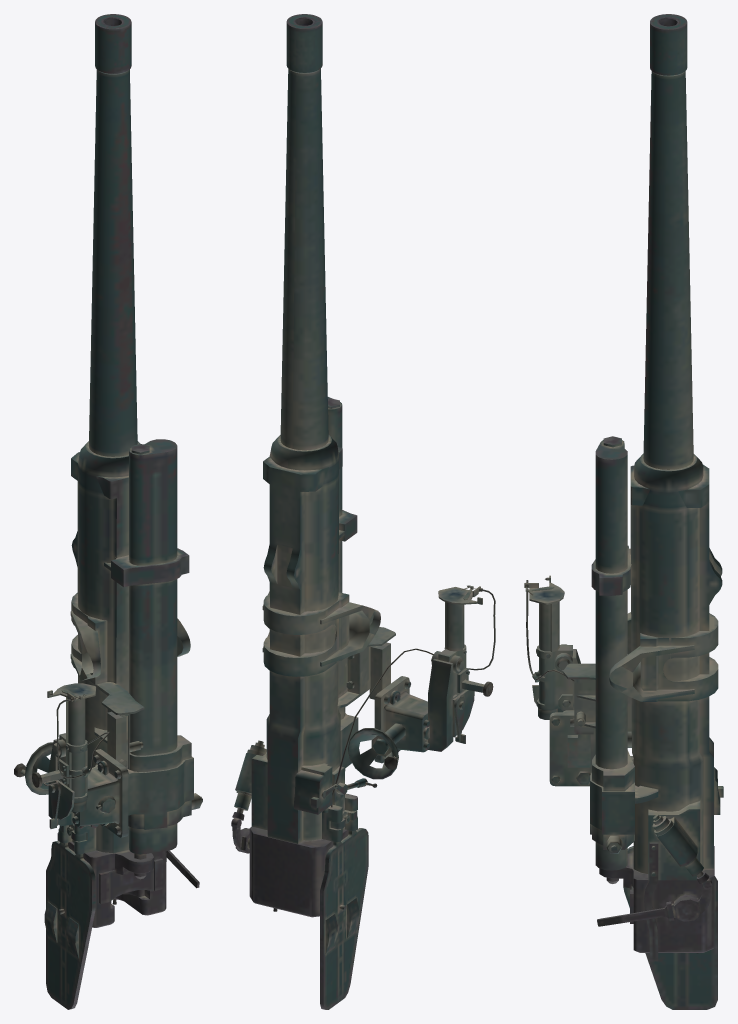
File: Gun_01.glb
3 views of the same model, side by side, from view 1: azimuth 30°, elevation 25°; view 2: azimuth 150°, elevation 25°; view 3: azimuth 270°, elevation 25° (orthographic). The views are drawn at different scales.
Visible parts, largest first — view 1: set_0_group_0; view 2: set_0_group_0; view 3: set_0_group_0.
Boxes of the visible parts, x1,y1,x2,y2 form: set_0_group_0: (14,14,202,1009); set_0_group_0: (231,14,495,1009); set_0_group_0: (524,14,723,1009).
Size of the model in its own units: 0.571 by 2.75 by 0.4919.
Materials: 1 (1 with a texture image).
